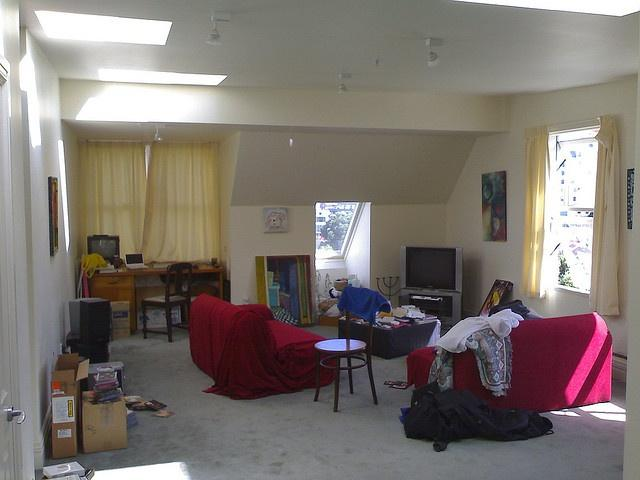AIO PC-Monitor-TV: (399, 244, 463, 292)
Kursi: (139, 259, 191, 342)
